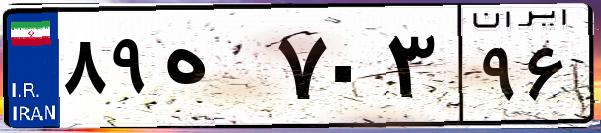0: (330, 28, 385, 110)
3: (385, 28, 445, 110)
6: (525, 38, 570, 115)
7: (270, 28, 330, 110)
8: (57, 26, 110, 100)
9: (475, 38, 525, 113), (110, 28, 158, 98)
ه: (158, 20, 270, 120)
